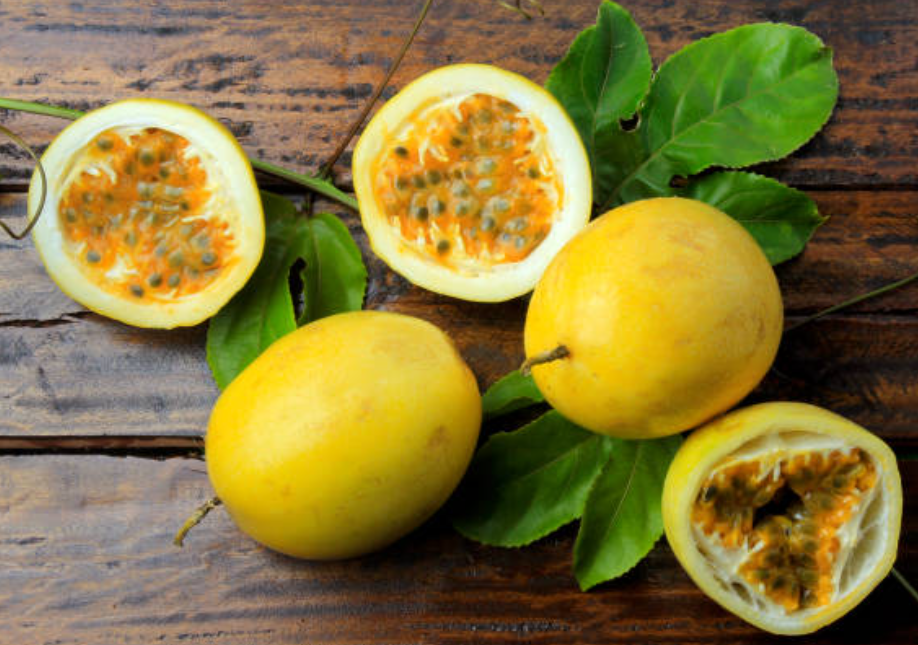maracuya: (194, 307, 485, 568), (516, 191, 790, 448)
